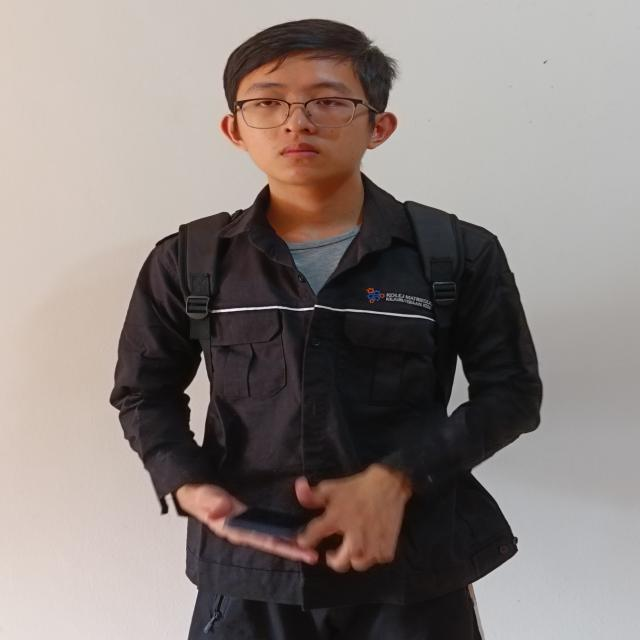person_with_labcoat: (110, 20, 541, 640)
